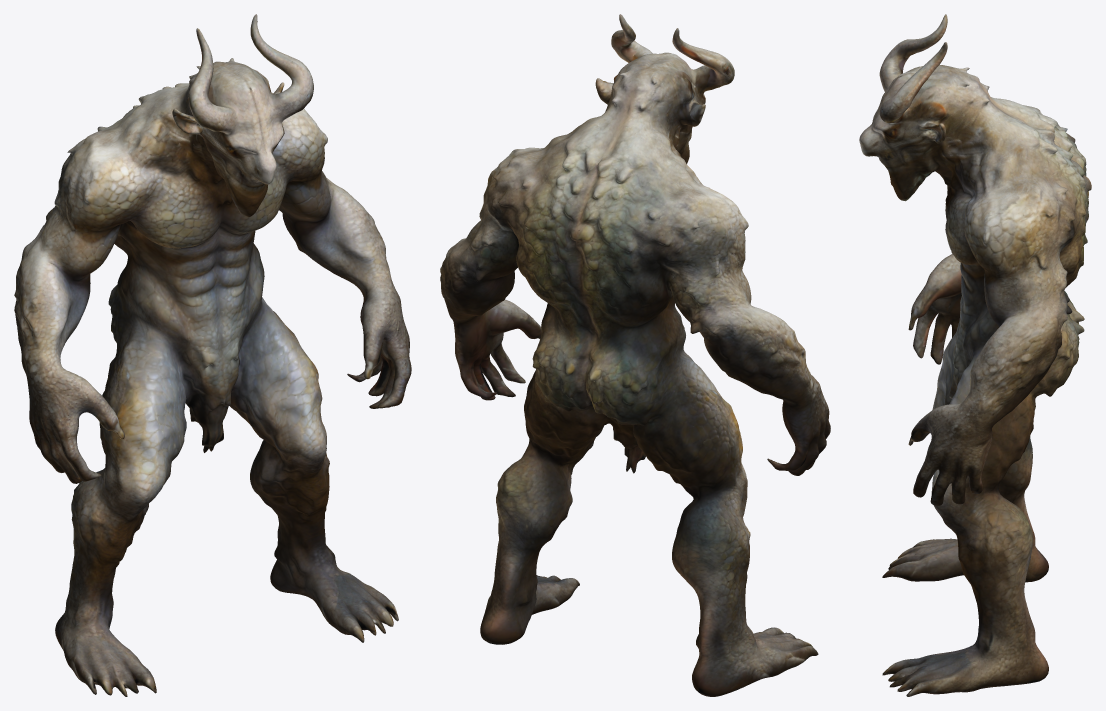
The model's file is Design_a_hyper_realis_0208134010_texture.fbx.
The picture shows the model from 3 angles, left to right: view 1: azimuth 30°, elevation 25°; view 2: azimuth 150°, elevation 25°; view 3: azimuth 270°, elevation 25°; orthographic projection. The views are drawn at different scales.
Parts seen in each view (by area): view 1: Mesh1_Mesh1.006; view 2: Mesh1_Mesh1.006; view 3: Mesh1_Mesh1.006.
Part boxes in pixels (x1,y1,x2,y2): Mesh1_Mesh1.006: (14,14,411,696); Mesh1_Mesh1.006: (440,14,830,696); Mesh1_Mesh1.006: (859,14,1091,696).
Bounding box in the file's own units: 153 × 250 × 87.54.
1 material, 1 textured.
